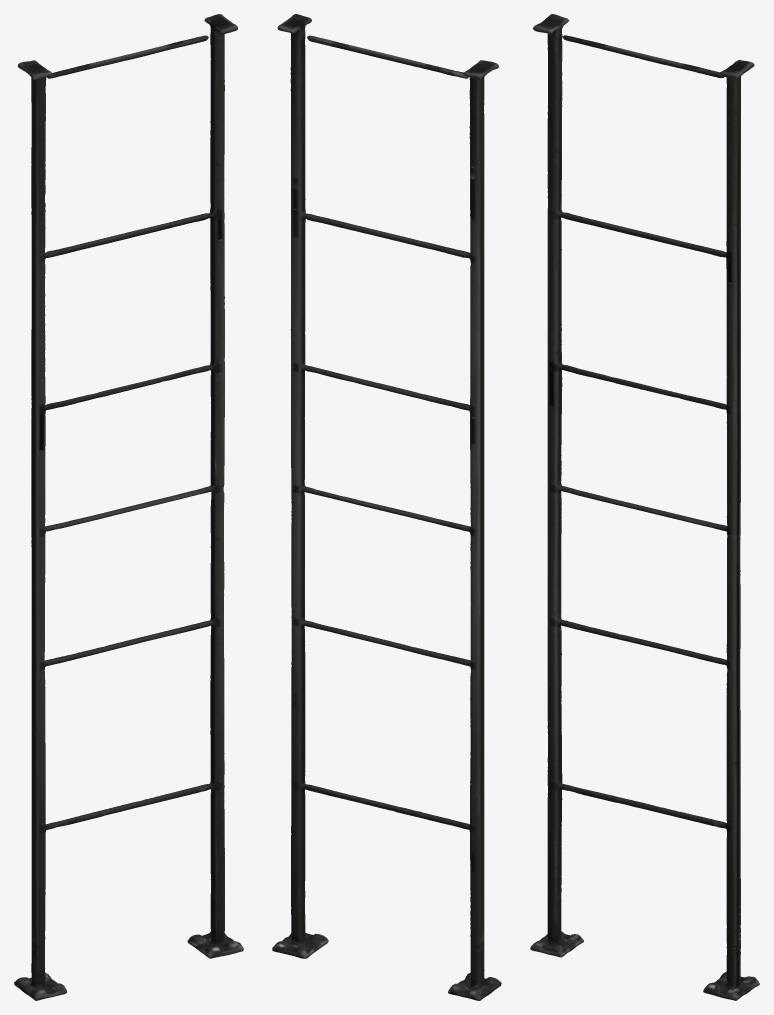
The model's file is Metal_Ladder.glb.
3 views of the same model, side by side, from view 1: azimuth 30°, elevation 25°; view 2: azimuth 150°, elevation 25°; view 3: azimuth 330°, elevation 25° (orthographic).
Bounding box in the file's own units: 0.4731 × 2 × 0.0935.
1 material, 1 textured.
